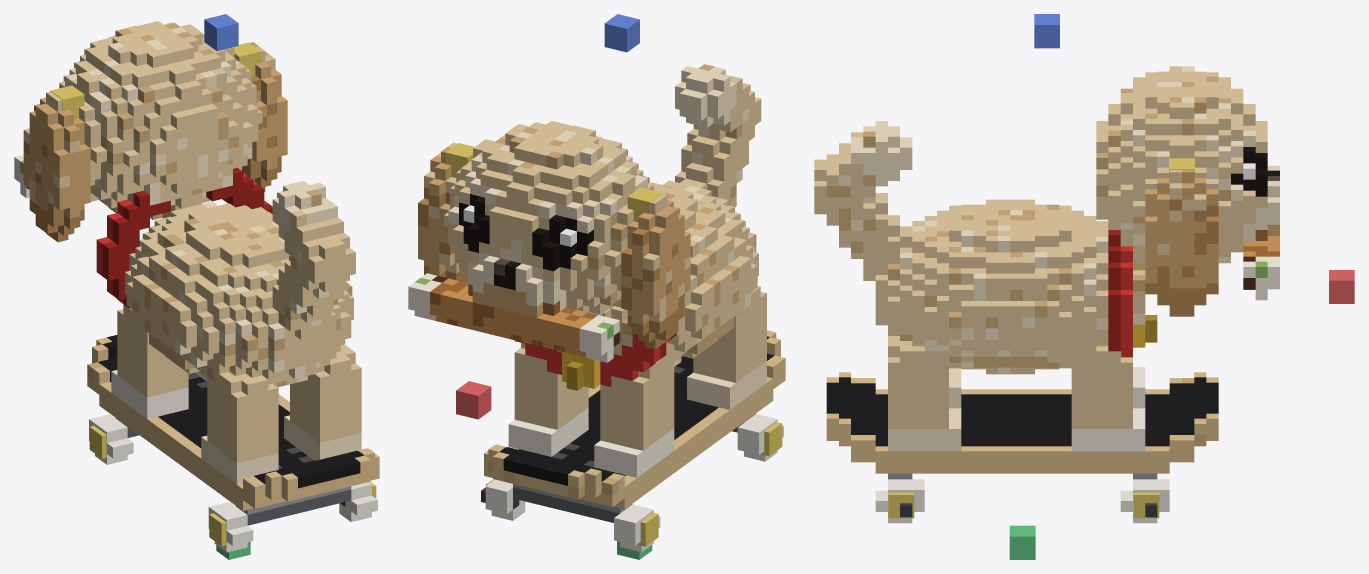
Rendered from CanelitoCannolito.glb.
3 views of the same model, side by side, from view 1: azimuth 30°, elevation 25°; view 2: azimuth 150°, elevation 25°; view 3: azimuth 270°, elevation 25° (orthographic). The views are drawn at different scales.
Visible parts, largest first — view 1: CanelitoCannolito_Body, CanelitoCannolito_Head11, CanelitoCannolito_Board1, CanelitoCannolito_Tail10, CanelitoCannolito_Ear13, CanelitoCannolito_Leg9, CanelitoCannolito_Leg8, CanelitoCannolito_Leg7, CanelitoCannolito_Ear12, CanelitoCannolito_Prop5, CanelitoCannolito_Prop3, CanelitoCannolito_Top (+5 smaller); view 2: CanelitoCannolito_Head11, CanelitoCannolito_Board1, CanelitoCannolito_Body, CanelitoCannolito_Tail10, CanelitoCannolito_Ear13, CanelitoCannolito_Leg7, CanelitoCannolito_Leg6, CanelitoCannolito_Leg9, CanelitoCannolito_Ear12, CanelitoCannolito_Prop5, CanelitoCannolito_Prop3, CanelitoCannolito_Prop2 (+6 smaller); view 3: CanelitoCannolito_Body, CanelitoCannolito_Head11, CanelitoCannolito_Board1, CanelitoCannolito_Tail10, CanelitoCannolito_Ear12, CanelitoCannolito_Leg8, CanelitoCannolito_Leg6, CanelitoCannolito_Prop2, CanelitoCannolito_Prop4, CanelitoCannolito_Built, CanelitoCannolito_Top, CanelitoCannolito_Front.
Boxes of the visible parts, x1,y1,x2,y2 form: CanelitoCannolito_Body: (96,167,353,387); CanelitoCannolito_Head11: (14,21,262,219); CanelitoCannolito_Board1: (87,335,379,525); CanelitoCannolito_Tail10: (267,181,355,339); CanelitoCannolito_Ear13: (23,91,90,242); CanelitoCannolito_Leg9: (201,370,278,484); CanelitoCannolito_Leg8: (284,344,361,460); CanelitoCannolito_Leg7: (111,304,188,418); CanelitoCannolito_Ear12: (242,42,287,191); CanelitoCannolito_Prop5: (208,502,253,552); CanelitoCannolito_Prop3: (89,414,133,464); CanelitoCannolito_Top: (204,14,238,50); CanelitoCannolito_Head11: (408,121,653,362); CanelitoCannolito_Board1: (484,330,785,522); CanelitoCannolito_Body: (514,180,758,390); CanelitoCannolito_Tail10: (675,64,761,207); CanelitoCannolito_Ear13: (621,193,690,349); CanelitoCannolito_Leg7: (594,354,674,477); CanelitoCannolito_Leg6: (508,342,588,456); CanelitoCannolito_Leg9: (687,286,766,409); CanelitoCannolito_Ear12: (418,142,468,282); CanelitoCannolito_Prop5: (737,414,783,461); CanelitoCannolito_Prop3: (614,504,660,552); CanelitoCannolito_Prop2: (481,479,525,520); CanelitoCannolito_Body: (875,199,1157,374); CanelitoCannolito_Head11: (1096,66,1279,300); CanelitoCannolito_Board1: (826,372,1218,479); CanelitoCannolito_Tail10: (814,121,912,280); CanelitoCannolito_Ear12: (1145,170,1218,316); CanelitoCannolito_Leg8: (888,336,961,451); CanelitoCannolito_Leg6: (1071,346,1145,451); CanelitoCannolito_Prop2: (1120,479,1169,523); CanelitoCannolito_Prop4: (875,479,924,523); CanelitoCannolito_Built: (1009,525,1035,559); CanelitoCannolito_Top: (1034,14,1059,48); CanelitoCannolito_Front: (1329,270,1354,303).
Size of the model in its own units: 2.62 by 5.74 by 5.25.
Materials: 1 (1 with a texture image).
